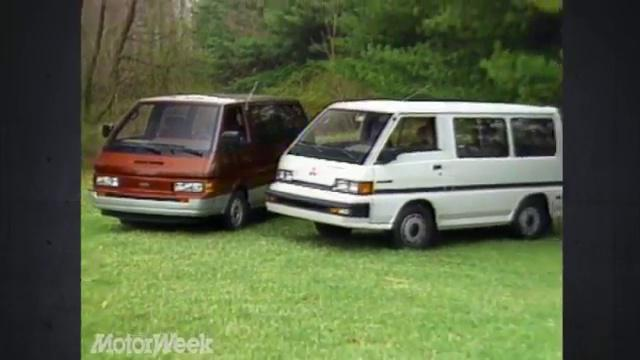Van: (271, 100, 566, 243), (91, 95, 317, 225)
